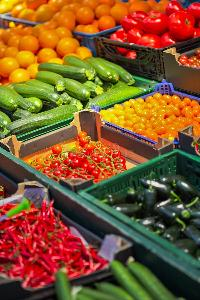bell_pepper: (0, 202, 110, 282)
eggplant: (94, 153, 200, 251)
orange: (1, 2, 113, 68)
tomato: (24, 133, 150, 197), (98, 93, 200, 153), (118, 4, 200, 57)
zucchini: (1, 56, 158, 130)
